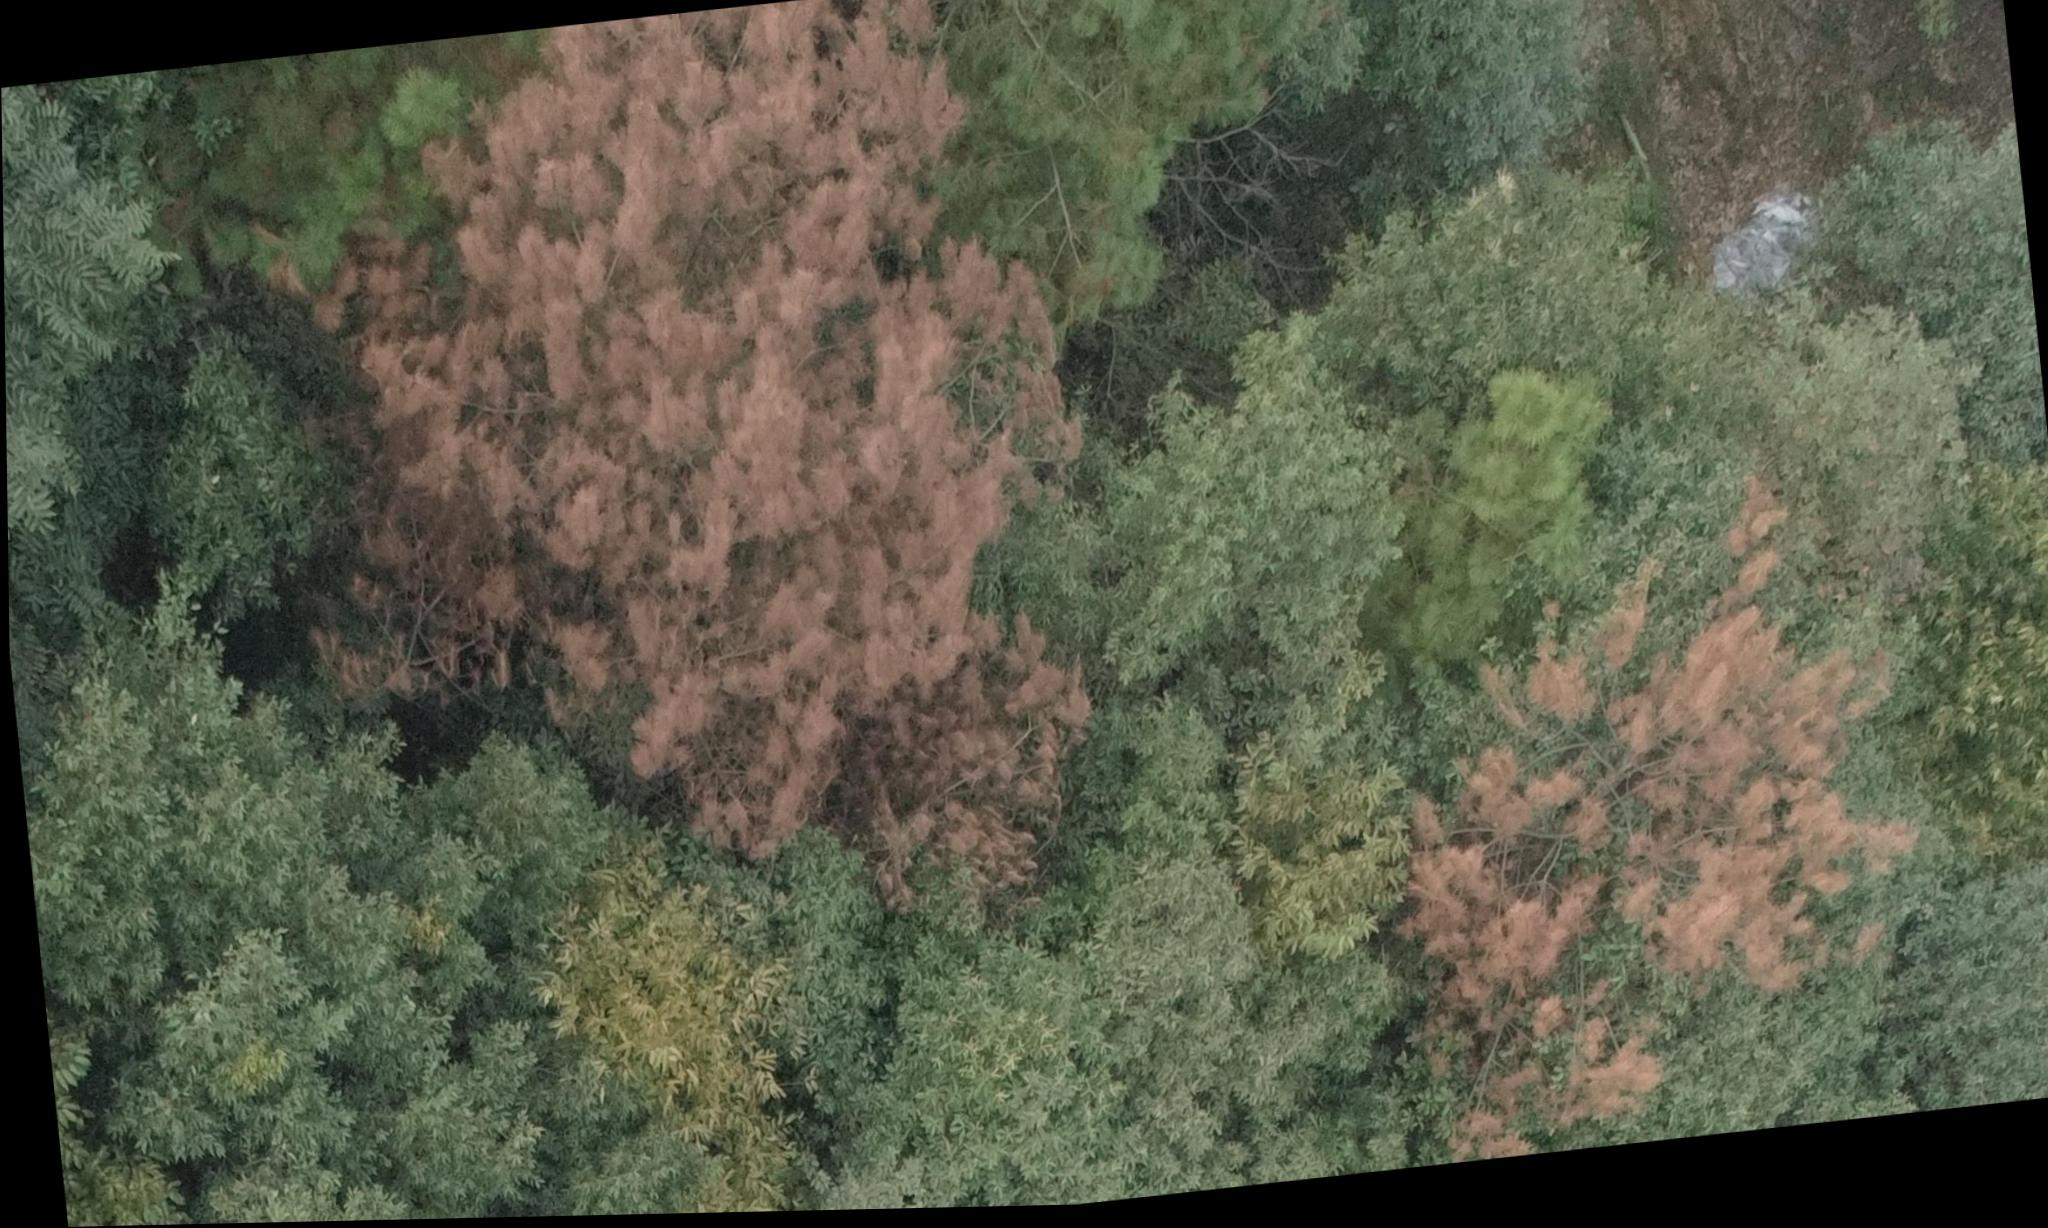heavy: (265, 0, 1108, 971), (1345, 485, 1914, 1148)
